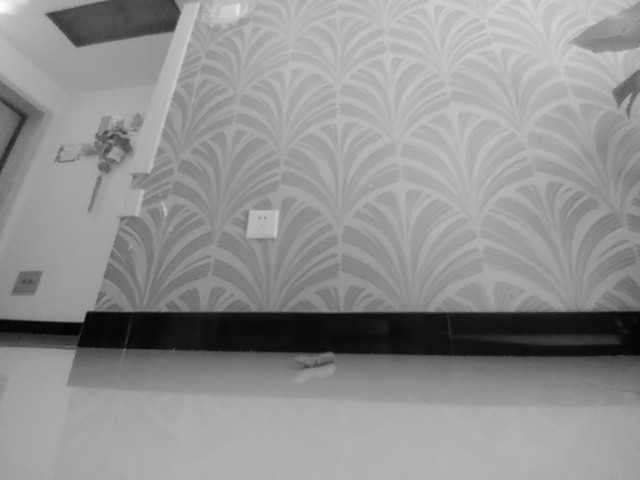pet feces: (295, 348, 338, 369)
